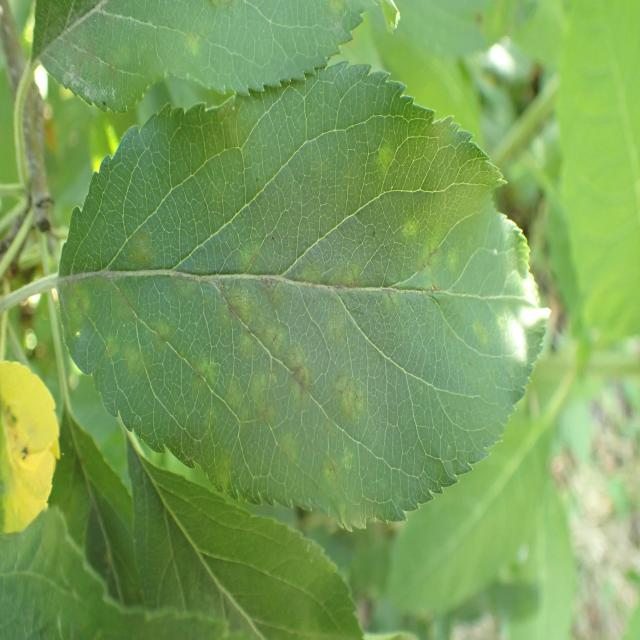scab: (80, 160, 533, 476)
